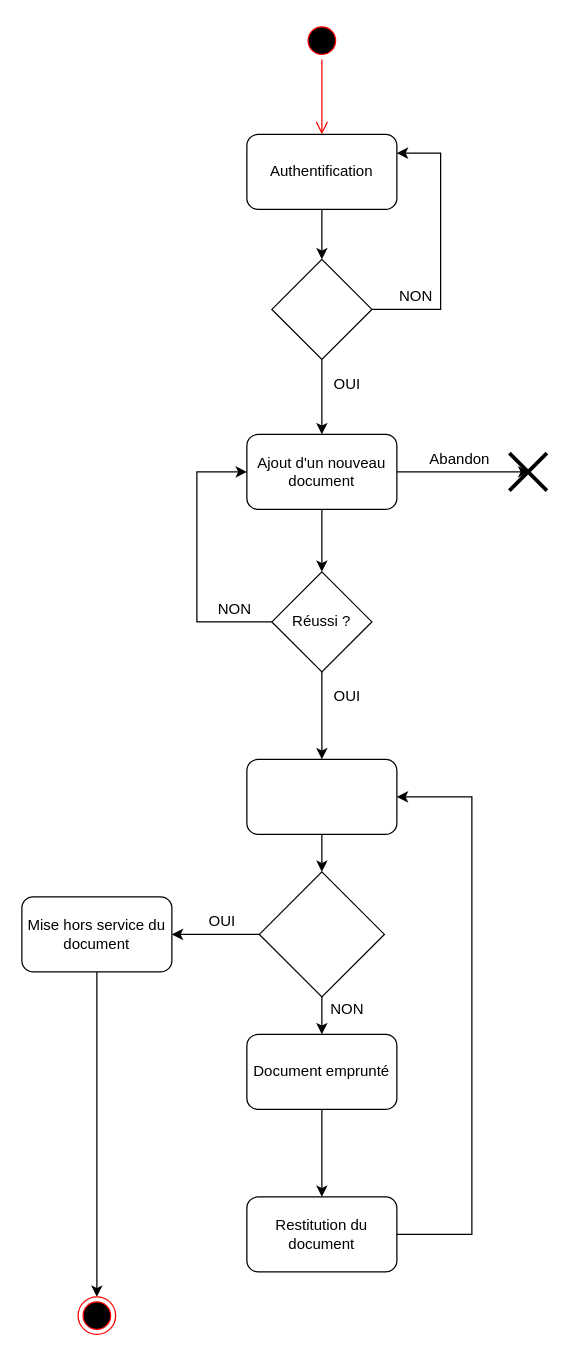
Some shapes in this 570 by 1356 pixel diagram are drawn without their labels. The shapes that lost their labels are listed below. From the top down, each one's centre as x and y in pixels, then its label:
(321,308): Réussie ?
(321,796): Mise en rayon
(321,934): Document perdu ou volé ?
